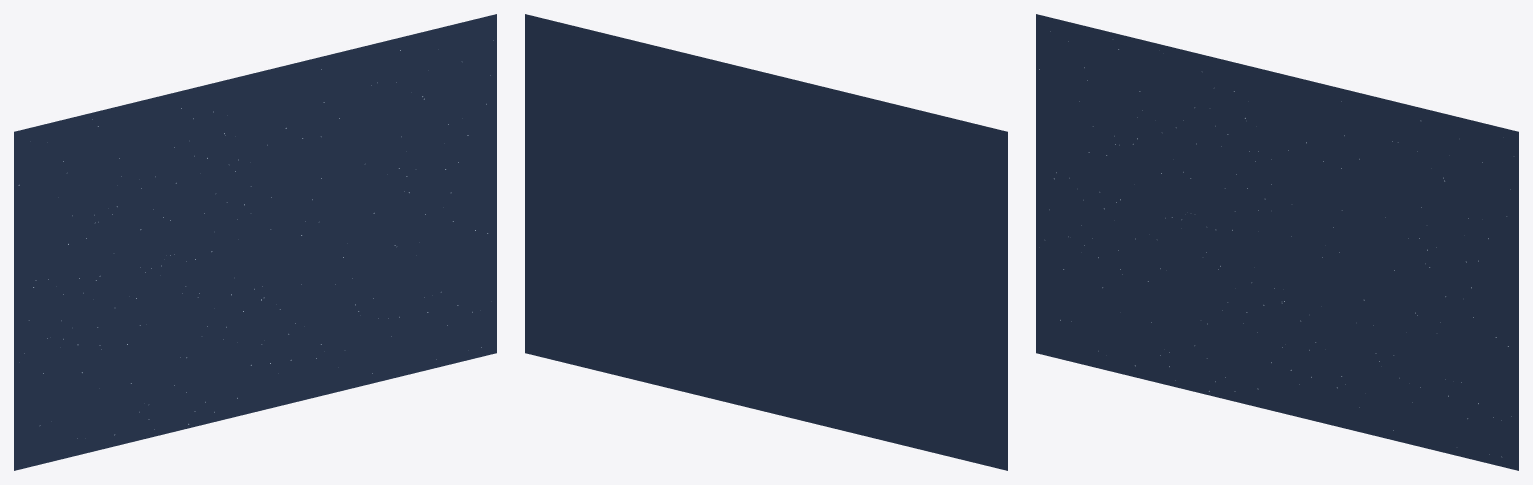
The model's file is night-sky.glb.
The picture shows the model from 3 angles, left to right: view 1: azimuth 30°, elevation 25°; view 2: azimuth 150°, elevation 25°; view 3: azimuth 330°, elevation 25°; orthographic projection.
Parts seen in each view (by area): view 1: Midnight sky; view 2: Midnight sky; view 3: Midnight sky.
Part boxes in pixels (left/top/right/bottom): Midnight sky: left=14, top=14, right=496, bottom=470; Midnight sky: left=525, top=14, right=1007, bottom=470; Midnight sky: left=1036, top=14, right=1518, bottom=470.
Size of the model in its own units: 3.8 by 2.55 by 0.01.
